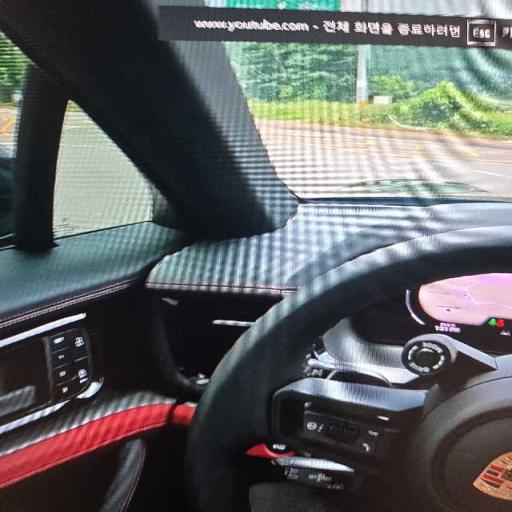car: (0, 0, 511, 511)
lane: (260, 122, 511, 198)
